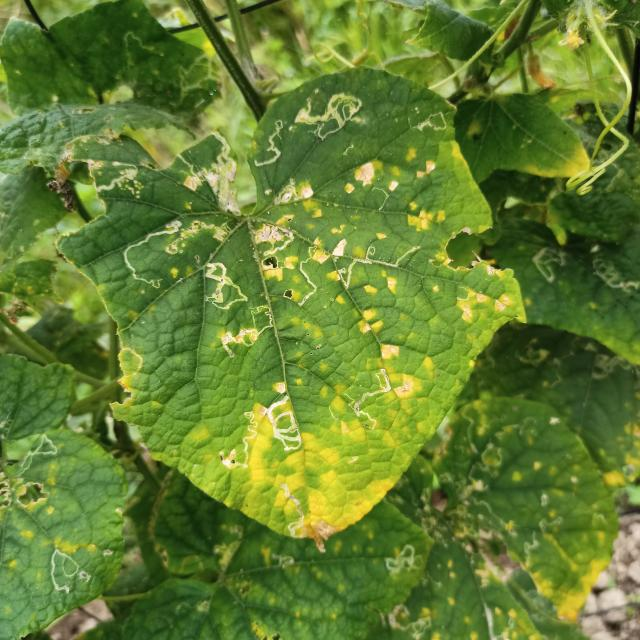disease_cucumber: (294, 152, 518, 403), (194, 355, 443, 544)
